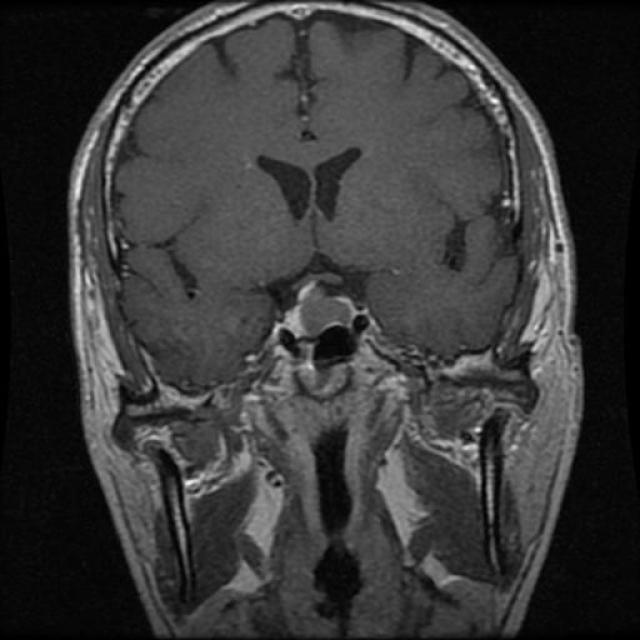brain_tumor: (289, 275, 358, 344)
